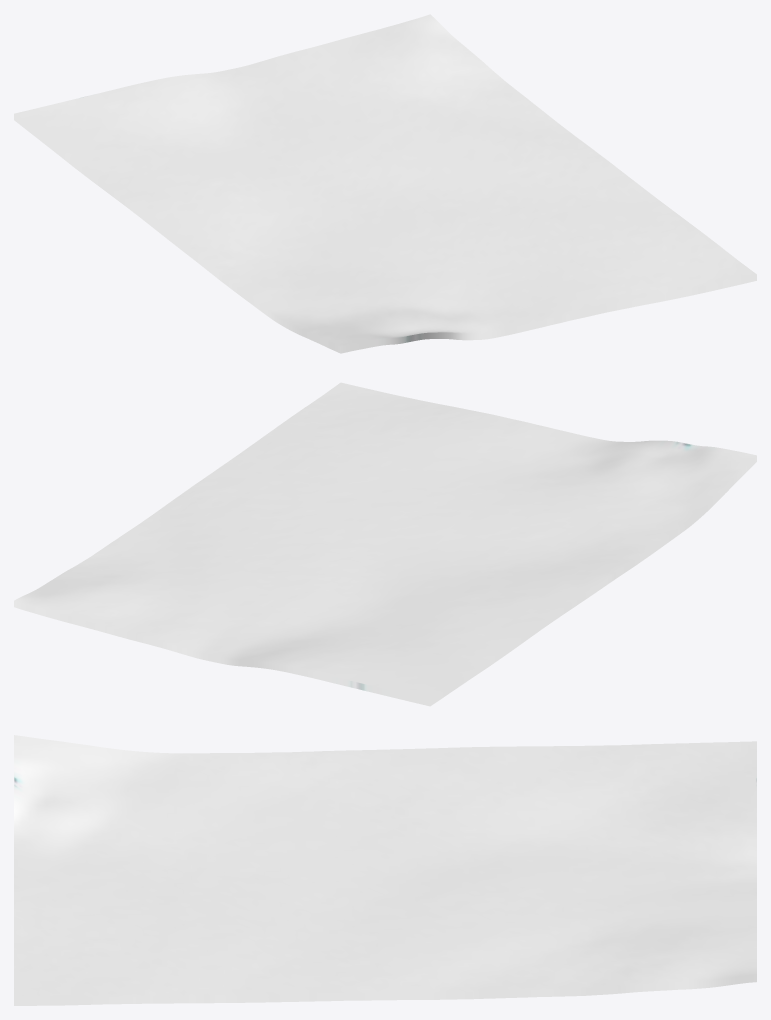
3 renders of one model, top to bottom at view 1: azimuth 30°, elevation 25°; view 2: azimuth 150°, elevation 25°; view 3: azimuth 270°, elevation 25°, orthographic. The views are drawn at different scales.
Parts seen in each view (by area): view 1: tile; view 2: tile; view 3: tile.
Boxes of the visible parts, x1=… form: tile: x1=14, y1=14, x2=756, y2=353; tile: x1=14, y1=382, x2=756, y2=706; tile: x1=14, y1=735, x2=756, y2=1005.
Bounding box in the file's own units: 2025 × 163 × 2752.
1 material, 1 textured.
